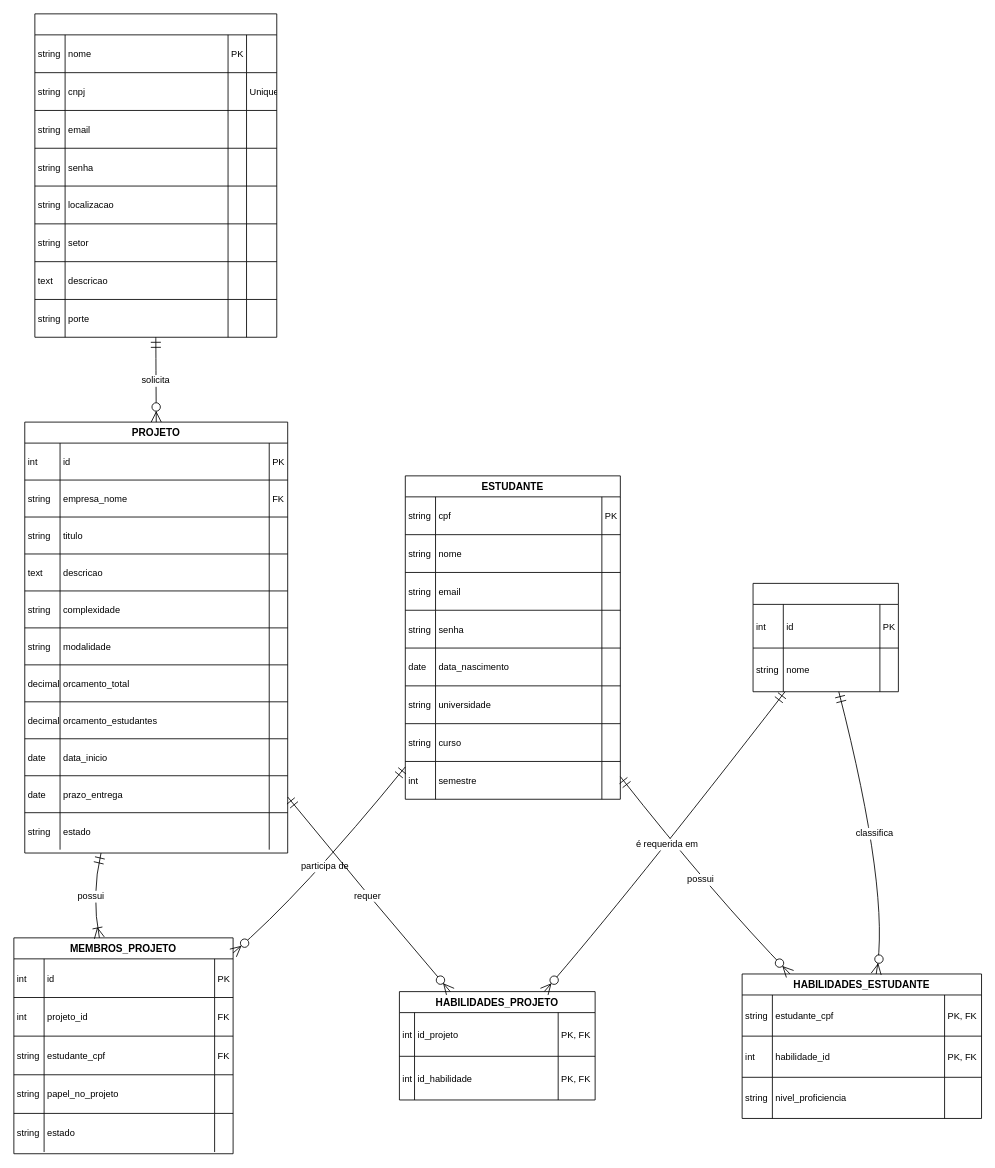
The diagram is 995 pixels wide and 1168 high, and some of its shapes have lost their labels. Here are the shapes that lost their labels. From the top down, the box of each, then its label:
(34, 13, 277, 337): EMPRESA
(752, 583, 898, 692): HABILIDADE
